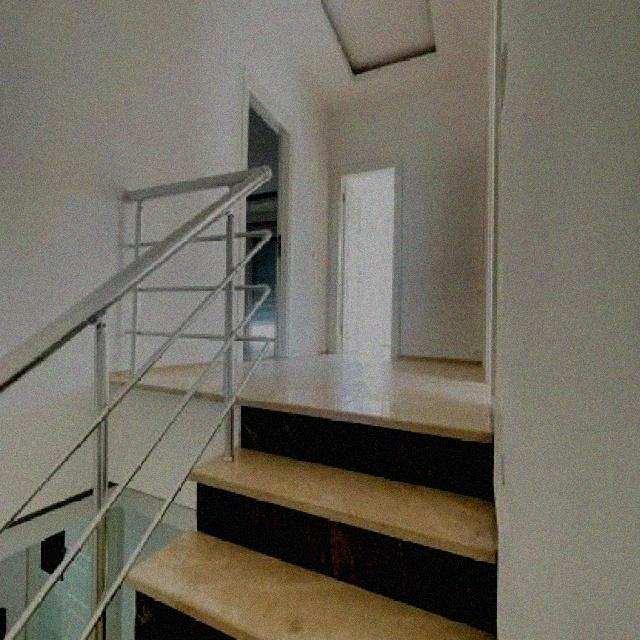stair: (3, 372, 503, 640)
